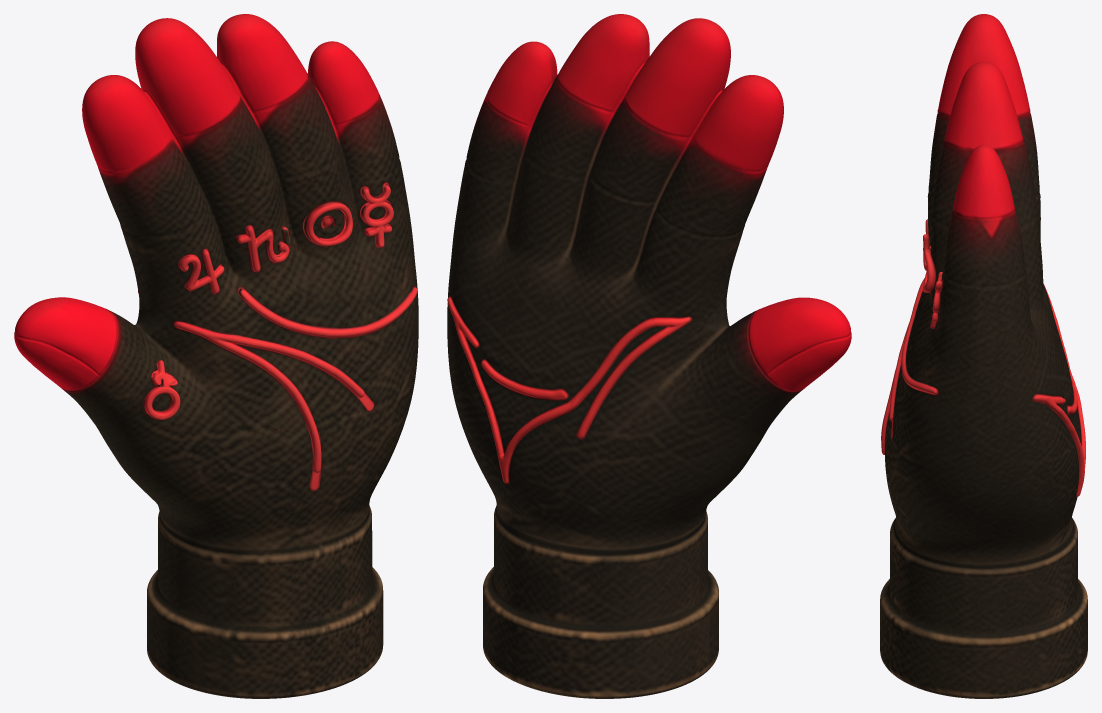
Rendered from right-hand.glb.
3 views of the same model, side by side, from view 1: azimuth 30°, elevation 25°; view 2: azimuth 150°, elevation 25°; view 3: azimuth 270°, elevation 25° (orthographic). The views are drawn at different scales.
Size of the model in its own units: 1.18 by 1.9 by 0.6023.
Materials: 1 (1 with a texture image).
